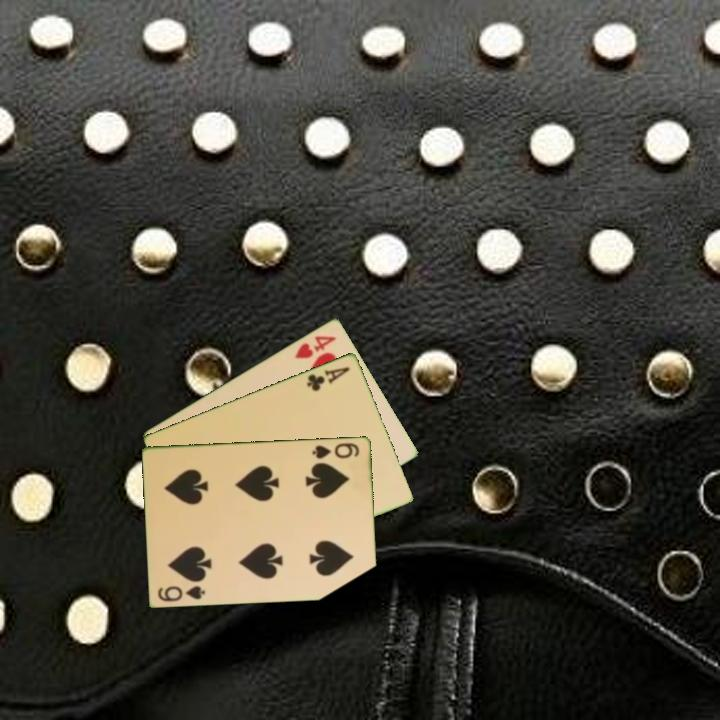4h: (291, 332, 339, 361)
6s: (309, 439, 363, 461), (155, 582, 208, 604)
Ac: (303, 363, 353, 394)
